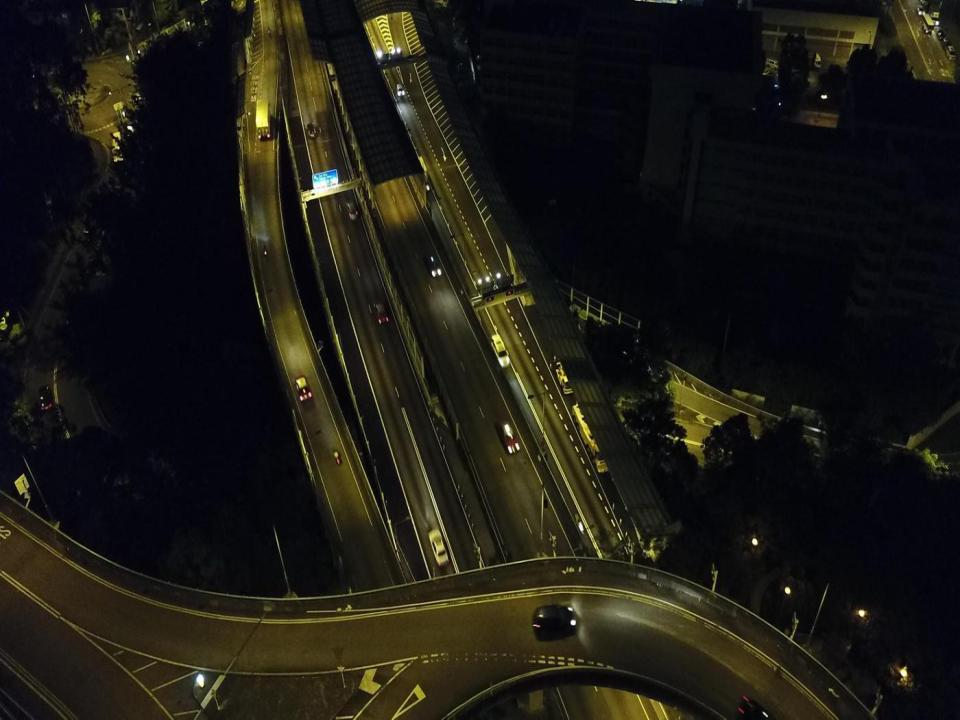bus: (920, 13, 934, 35)
car: (535, 604, 578, 635), (736, 695, 773, 719), (428, 527, 450, 567), (490, 333, 510, 369), (499, 420, 520, 454), (294, 373, 314, 404), (422, 251, 442, 279), (37, 386, 54, 412), (374, 301, 390, 325), (345, 198, 360, 221), (306, 121, 317, 139), (395, 82, 405, 97), (915, 4, 926, 16), (941, 37, 951, 50)
truck: (571, 401, 614, 473), (554, 360, 575, 395), (790, 48, 822, 70), (255, 100, 272, 139)
van: (112, 132, 125, 162), (764, 57, 782, 70), (945, 44, 957, 61)
